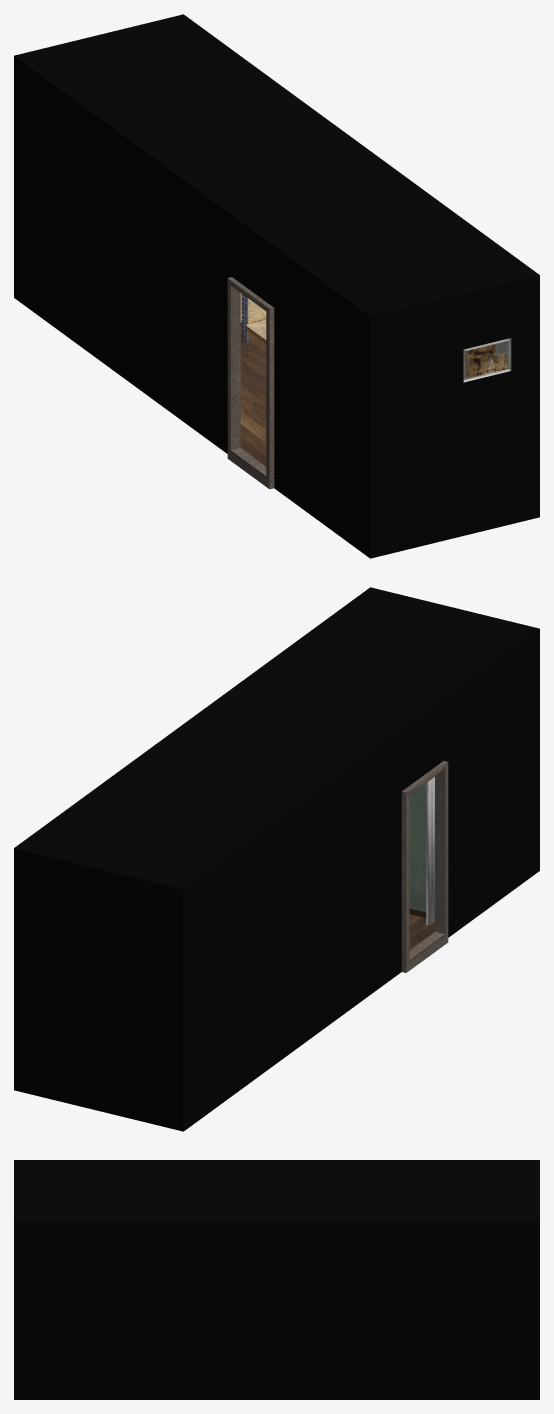
Rendered from RoomTwo.gltf.
3 views of the same model, one above another, from view 1: azimuth 30°, elevation 25°; view 2: azimuth 150°, elevation 25°; view 3: azimuth 270°, elevation 25° (orthographic). The views are drawn at different scales.
Visible parts, largest first — view 1: Walls, ZapleczeDrzwi2, Okno; view 2: Walls, ZapleczeDrzwi2, Rura_3.001; view 3: Walls.
Boxes of the visible parts, x1,y1,x2,y2 form: Walls: (14,14,539,558); ZapleczeDrzwi2: (227,277,274,489); Okno: (463,338,509,380); Walls: (14,587,539,1131); ZapleczeDrzwi2: (401,761,448,972); Rura_3.001: (426,779,431,926); Walls: (14,1160,539,1399).
Size of the model in its own units: 2.2 by 2.93 by 7.81.
Materials: 19 (19 with a texture image).
